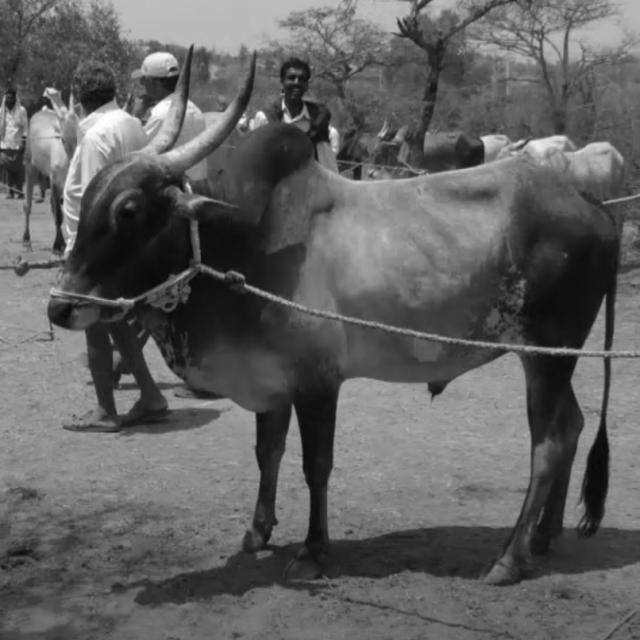Cow: (56, 43, 624, 587)
